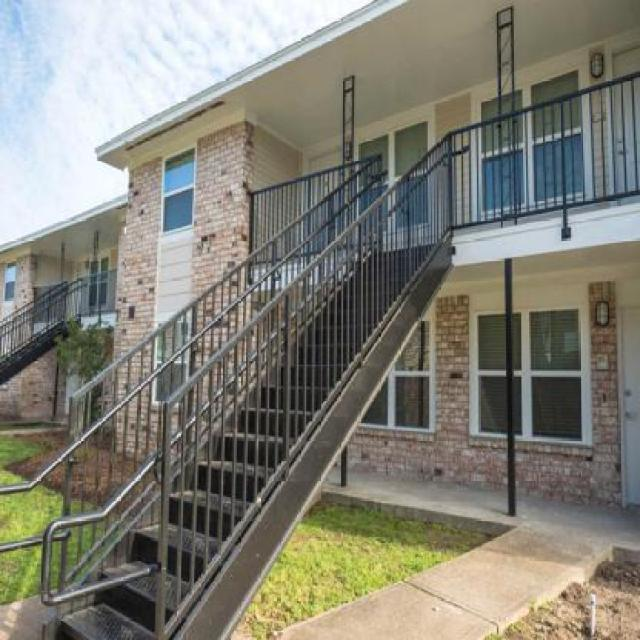stair: (1, 126, 488, 640)
